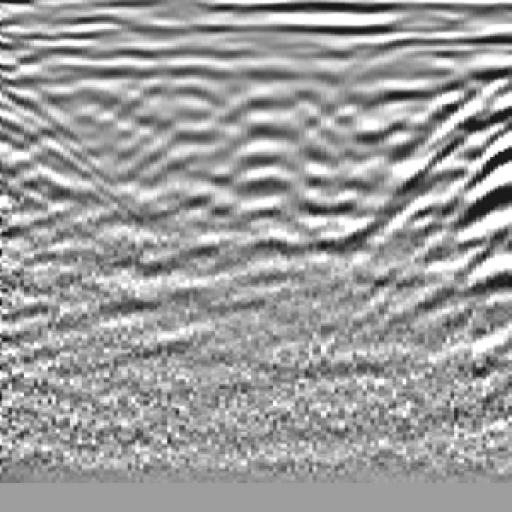metalic: (123, 44, 335, 285)
nonmetalic: (379, 42, 512, 332)
